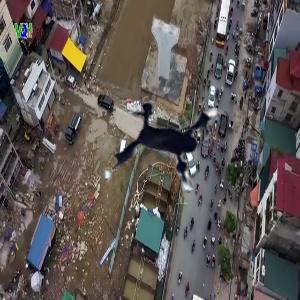drone: (91, 76, 247, 232)
